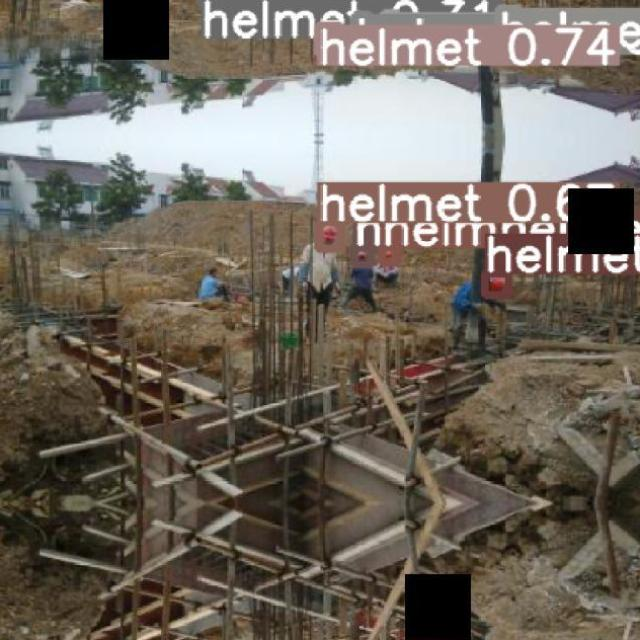helmet: (322, 226, 337, 242), (358, 251, 366, 258), (385, 250, 392, 256)
